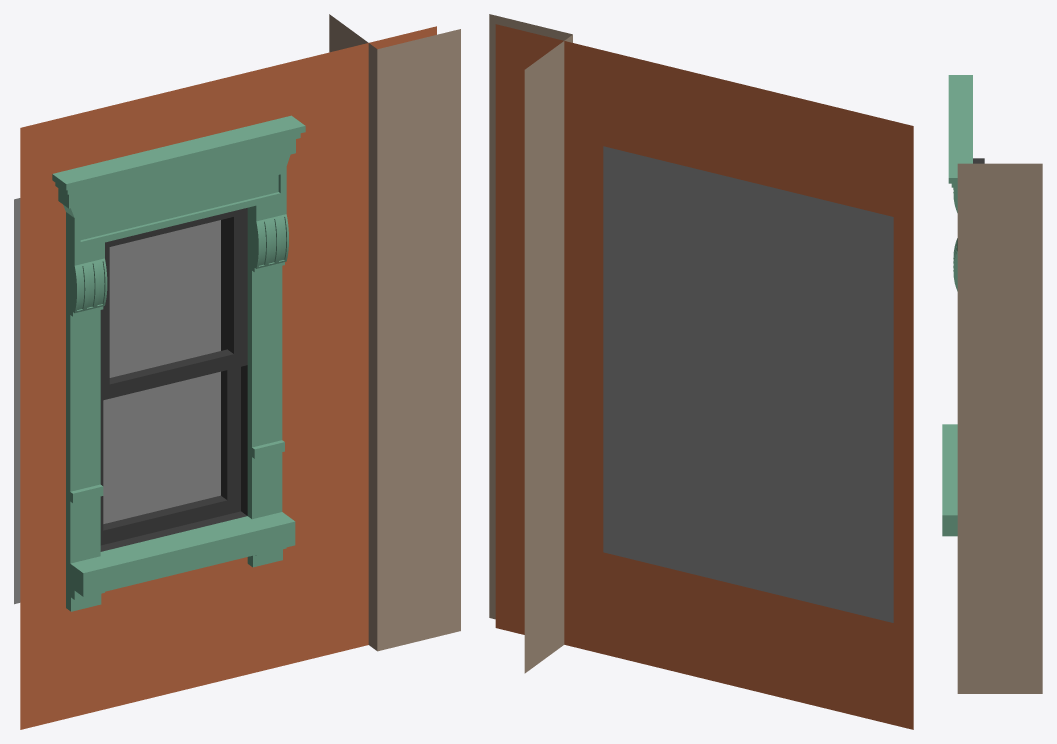
File: object_B2_Window_corner.glb
3 renders of one model, left to right at view 1: azimuth 30°, elevation 25°; view 2: azimuth 150°, elevation 25°; view 3: azimuth 270°, elevation 25°, orthographic. The views are drawn at different scales.
Parts seen in each view (by area): view 1: B2 Window corner; view 2: B2 Window corner; view 3: B2 Window corner.
Part boxes in pixels (<box>): B2 Window corner: <box>14,14,460,729</box>; B2 Window corner: <box>489,14,913,729</box>; B2 Window corner: <box>942,75,1042,693</box>.
Bounding box in the file's own units: 2.85 × 3.8 × 0.6514.
